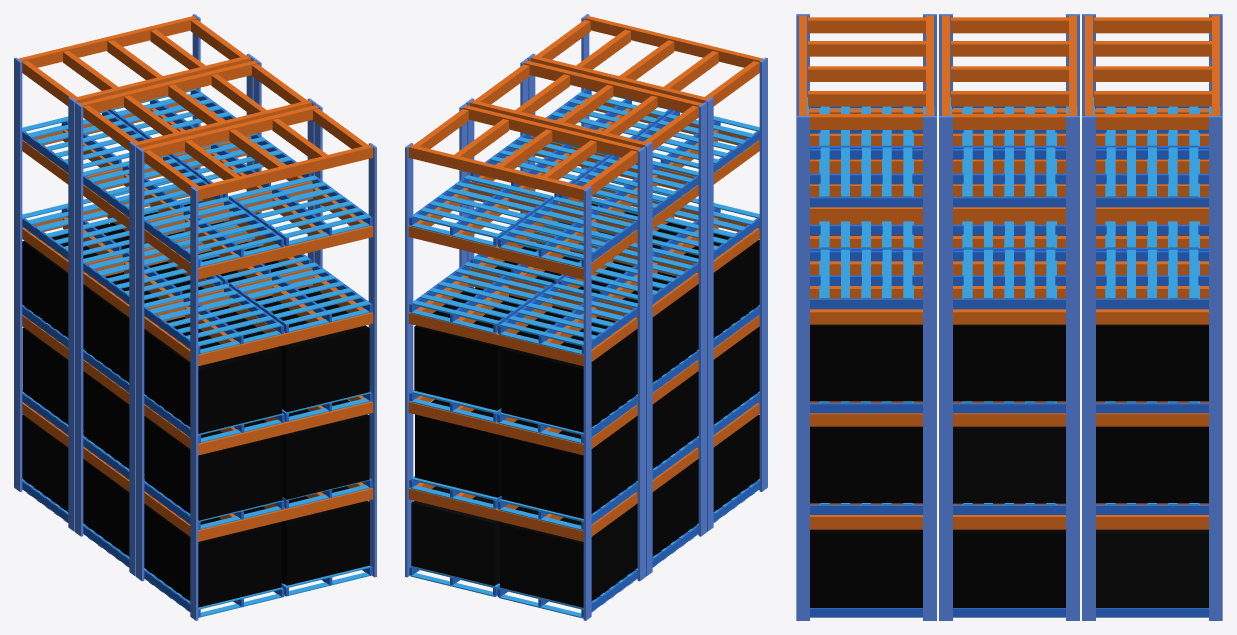
The model's file is bmet4racks.glb.
3 renders of one model, left to right at view 1: azimuth 30°, elevation 25°; view 2: azimuth 150°, elevation 25°; view 3: azimuth 270°, elevation 25°, orthographic. The views are drawn at different scales.
Parts seen in each view (by area): view 1: Box6, Box4, Box2, Box5, Box1, Box3, post_1, post_5, post_9, post_3, Box6_1, Box6_2 (+47 smaller); view 2: Box6_2, Box2_2, Box4_2, Box5_2, Box1_2, Box3_2, post_3, post_7, post_11, post_9, Box6, Box6_1 (+47 smaller); view 3: Box1, Box1_1, Box1_2, Box5, Box5_1, Box5_2, Box3_1, Box3, Box3_2, post, post_2, post_4 (+84 smaller).
Boxes of the visible parts, x1,y1,x2,y2 form: Box6: [144, 313, 281, 433]; Box4: [144, 417, 282, 520]; Box2: [144, 504, 281, 607]; Box5: [232, 291, 369, 412]; Box1: [259, 486, 369, 585]; Box3: [260, 399, 369, 499]; post_1: [136, 147, 144, 581]; post_5: [75, 102, 83, 536]; post_9: [14, 57, 22, 491]; post_3: [190, 186, 198, 620]; Box6_1: [83, 268, 220, 382]; Box6_2: [22, 223, 159, 337]; Box6_2: [501, 313, 637, 432]; Box2_2: [500, 504, 637, 607]; Box4_2: [501, 416, 637, 518]; Box5_2: [414, 287, 550, 410]; Box1_2: [411, 486, 522, 586]; Box3_2: [415, 399, 521, 497]; post_3: [759, 57, 767, 491]; post_7: [698, 102, 706, 536]; post_11: [637, 147, 645, 581]; post_9: [583, 186, 591, 620]; Box6: [623, 223, 759, 337]; Box6_1: [562, 268, 698, 382]; Box1: [810, 529, 922, 607]; Box1_1: [953, 529, 1065, 607]; Box1_2: [1096, 529, 1208, 607]; Box5: [810, 324, 922, 401]; Box5_1: [953, 324, 1065, 401]; Box5_2: [1096, 324, 1208, 401]; Box3_1: [953, 426, 1065, 503]; Box3: [810, 426, 922, 503]; Box3_2: [1096, 426, 1208, 503]; post: [923, 116, 936, 620]; post_2: [796, 116, 809, 620]; post_4: [1066, 116, 1079, 620].
Bounding box in the file's own units: 2.96 × 6.73 × 5.17.
